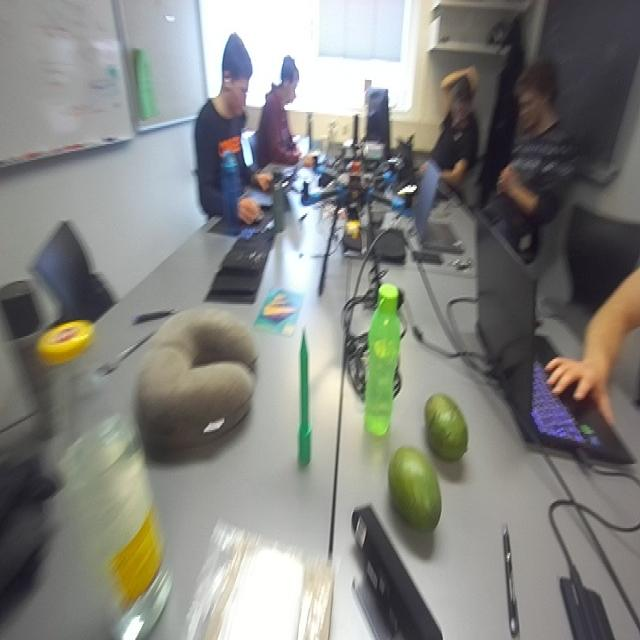probe: (298, 329, 311, 466)
